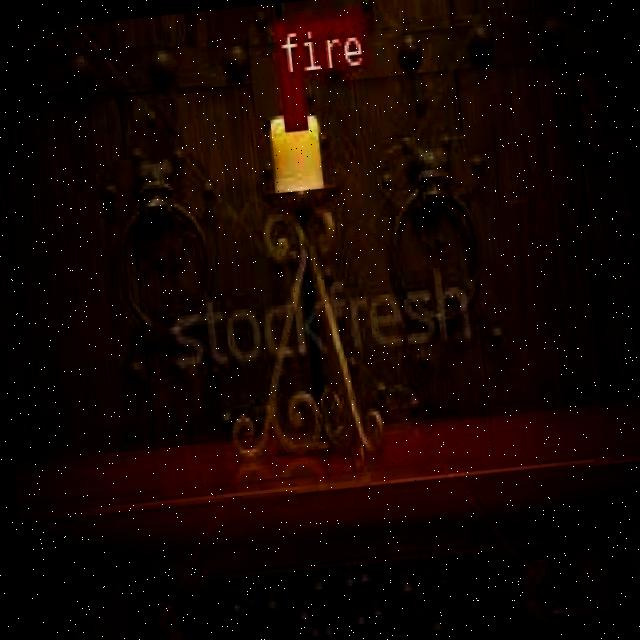fire: (278, 73, 304, 128)
